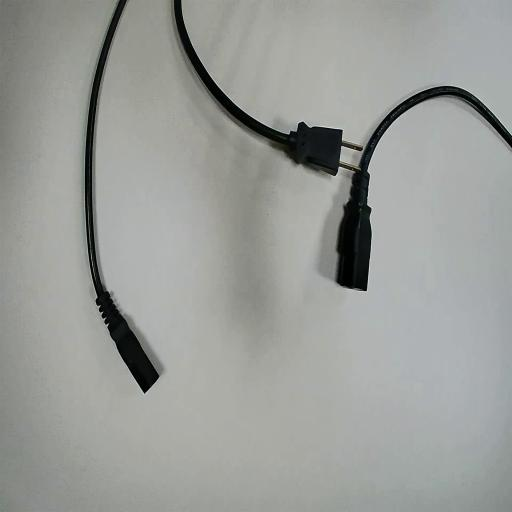wire: (336, 87, 511, 289), (174, 0, 342, 173), (85, 0, 158, 391)
